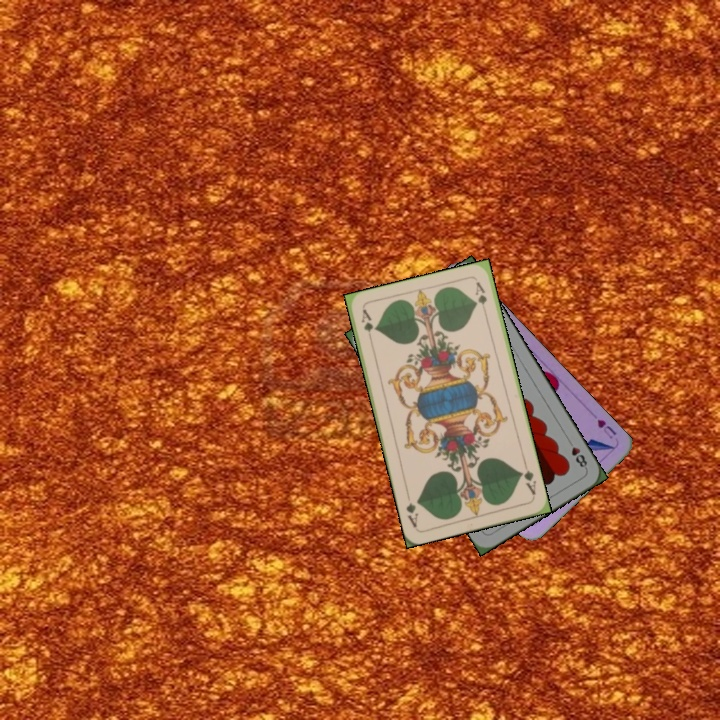GA: (516, 459, 539, 500), (357, 305, 376, 345)
H8: (563, 435, 590, 472)
HU: (593, 415, 619, 442)
